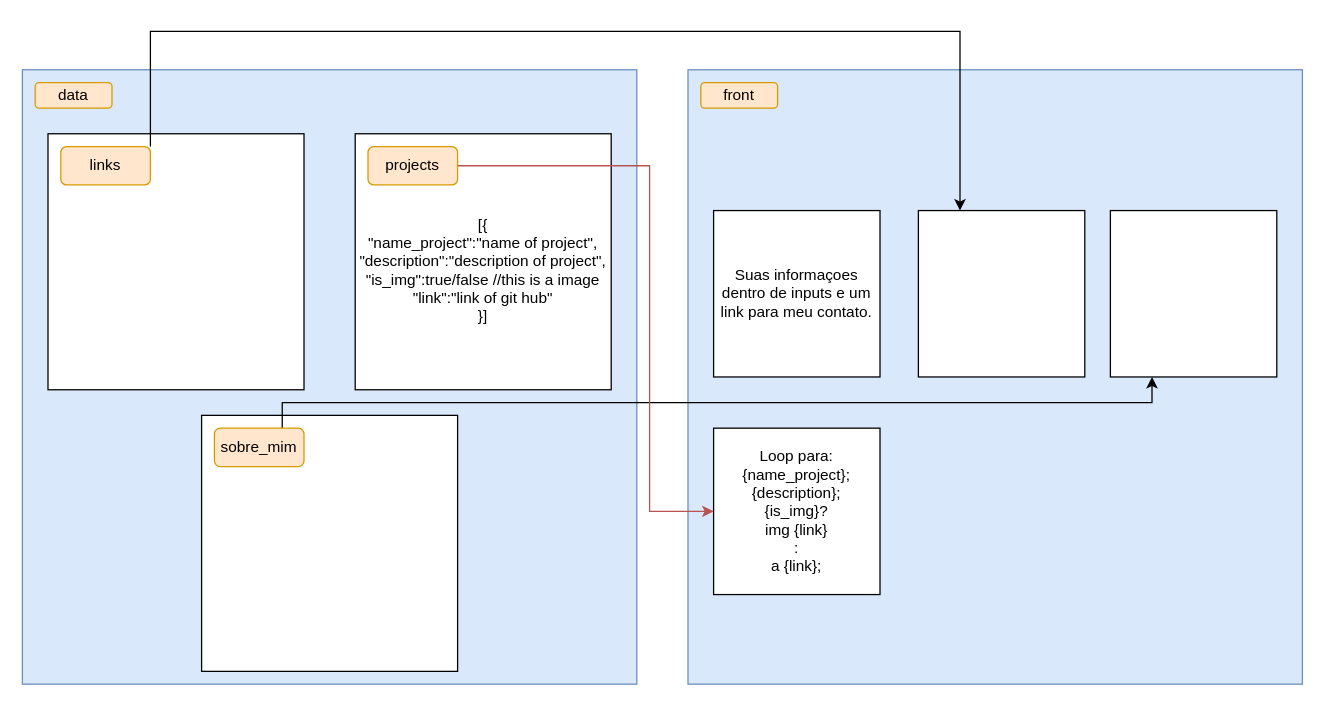
This 1325x707 diagram has some shape labels left out. The box of each missing label's shape, as (x1, y1, x2, y2) in pixels:
[{ "description":"Name description", "path":"name route" }]: (47, 132, 304, 390)
Loop para criação de links de acordo com {links};: (917, 209, 1085, 377)
Sobre mim; minha foto {imagem}; Detalhes {details};: (1109, 209, 1277, 377)
{ "link_image":"link of image", "details":"details of your person" }: (200, 414, 458, 671)
